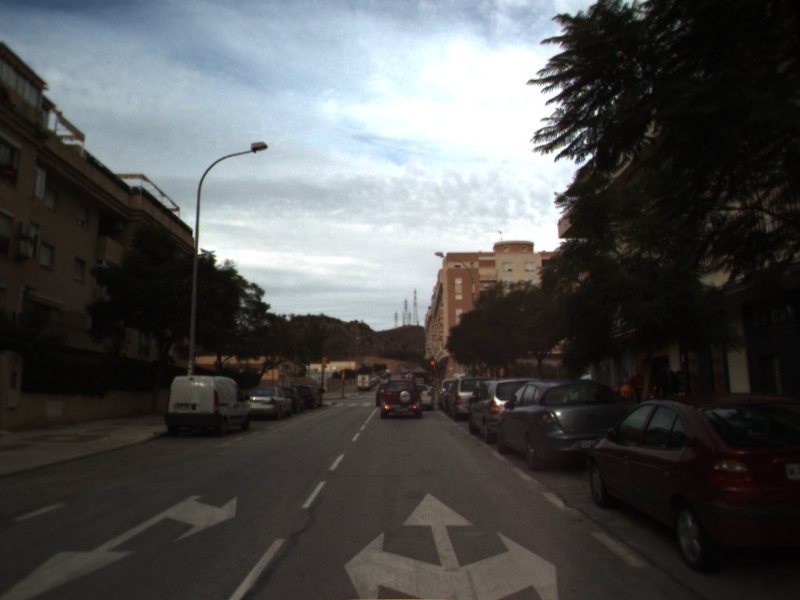STRAIGHT_LEFT_RIGHT: (341, 489, 565, 600)
